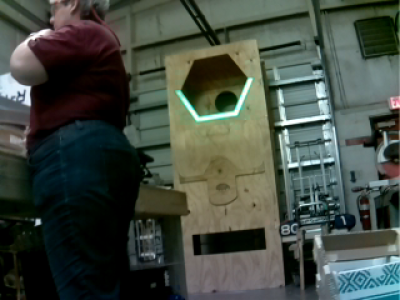target: (175, 78, 252, 122)
